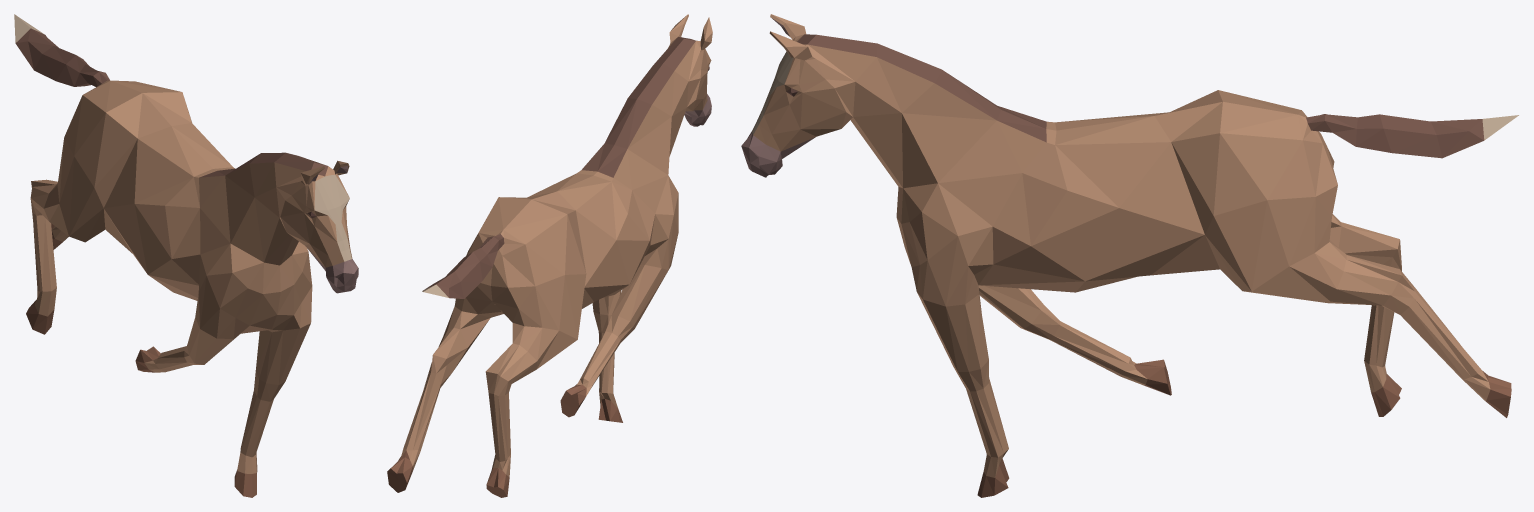
File: 5_j76lbDcgMfAahk9HCG2Em3Ie4i0L1KFdJ8B.glb
3 renders of one model, left to right at view 1: azimuth 30°, elevation 25°; view 2: azimuth 150°, elevation 25°; view 3: azimuth 270°, elevation 25°, orthographic. The views are drawn at different scales.
Visible parts, largest first — view 1: mesh_0; view 2: mesh_0; view 3: mesh_0.
Boxes of the visible parts, bbox=[...] form: mesh_0: bbox=[14, 14, 358, 497]; mesh_0: bbox=[387, 14, 712, 497]; mesh_0: bbox=[741, 14, 1518, 497].
Bounding box in the file's own units: 64.87 × 197 × 295.
